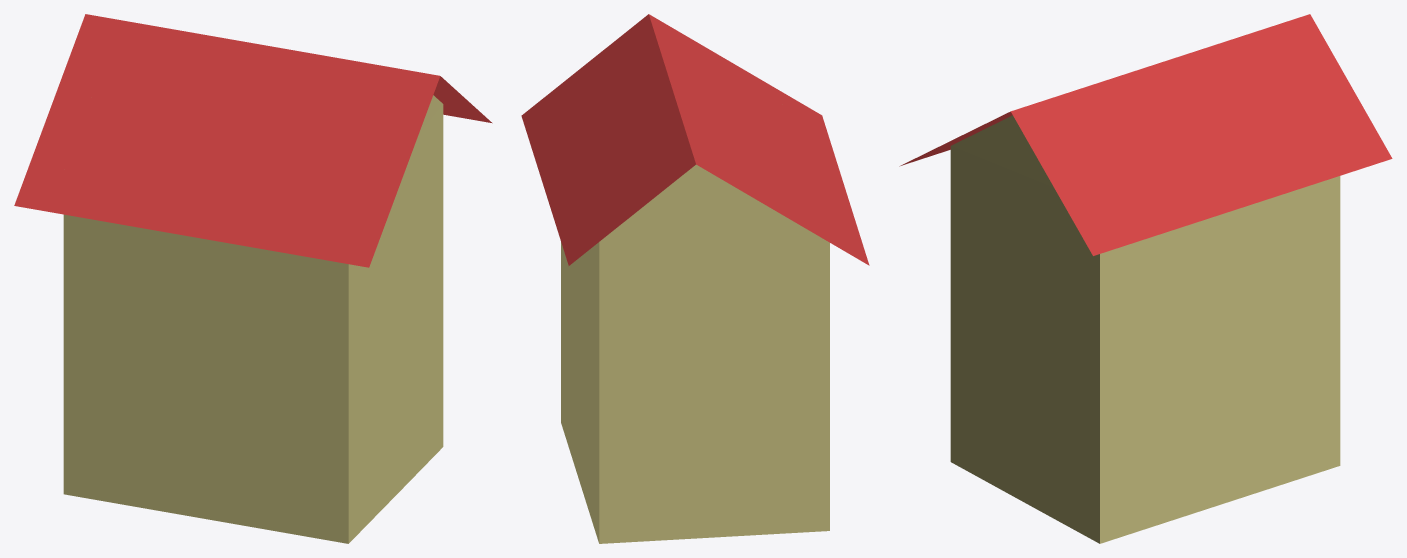
The picture shows the model from 3 angles, left to right: view 1: azimuth 30°, elevation 25°; view 2: azimuth 150°, elevation 25°; view 3: azimuth 270°, elevation 25°; orthographic projection. The views are drawn at different scales.
Size of the model in its own units: 9.74 by 9.96 by 9.1.
